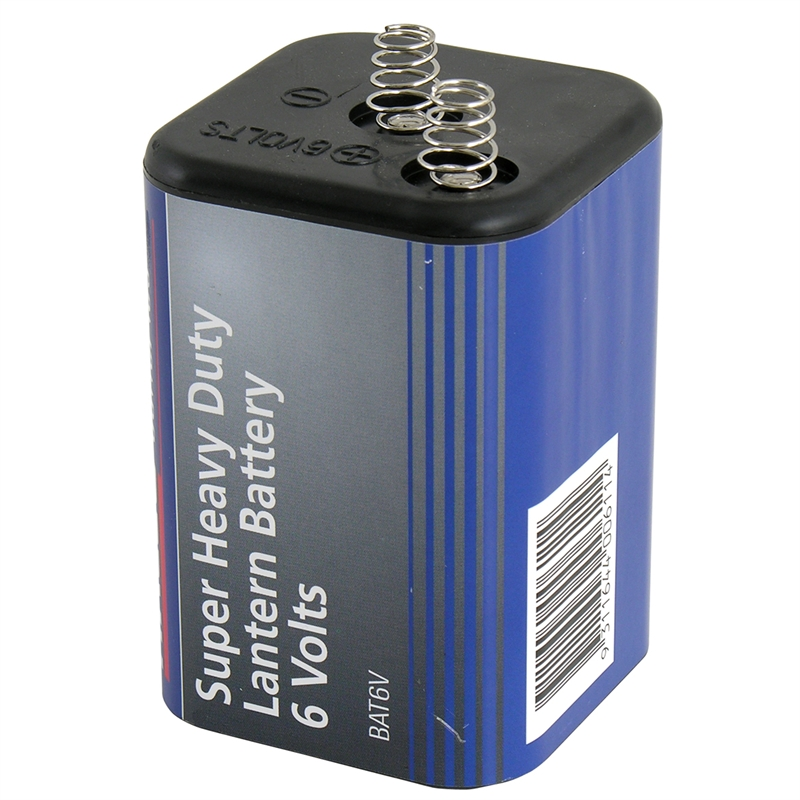6V: (132, 27, 689, 791)
